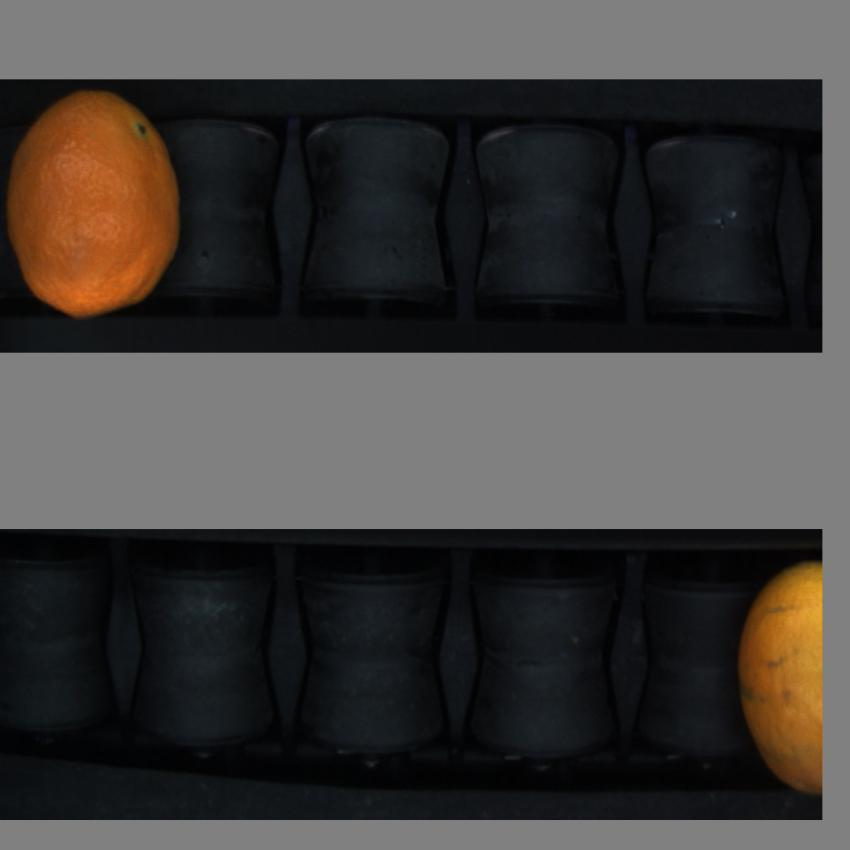Buen estado: (726, 556, 824, 808)
Mal estado: (7, 86, 194, 320)
